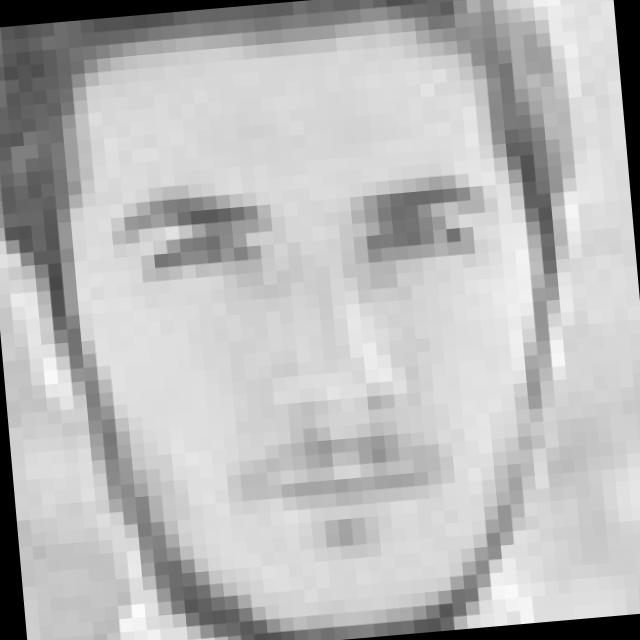neutral: (86, 158, 530, 540)
